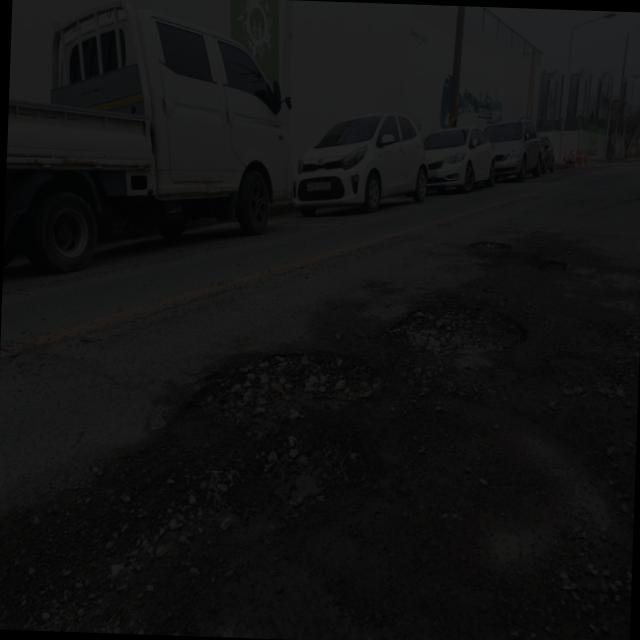pothole: (195, 298, 371, 434), (392, 264, 534, 384)
